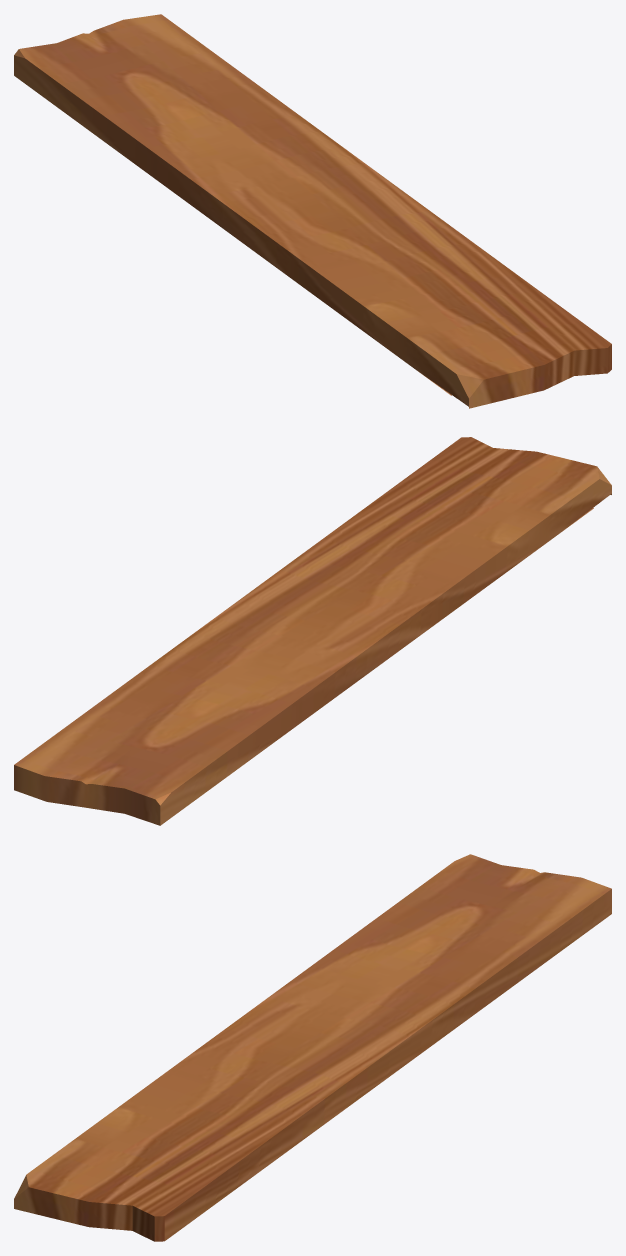
File: board2.fbx
The picture shows the model from 3 angles, top to bottom: view 1: azimuth 30°, elevation 25°; view 2: azimuth 150°, elevation 25°; view 3: azimuth 330°, elevation 25°; orthographic projection.
Parts seen in each view (by area): view 1: 木頭1; view 2: 木頭1; view 3: 木頭1.
Boxes of the visible parts, bbox=[...] form: 木頭1: bbox=[14, 14, 611, 408]; 木頭1: bbox=[14, 437, 611, 825]; 木頭1: bbox=[14, 854, 611, 1241].
Size of the model in its own units: 13.91 by 2.3 by 75.02.
Materials: 1 (1 with a texture image).
